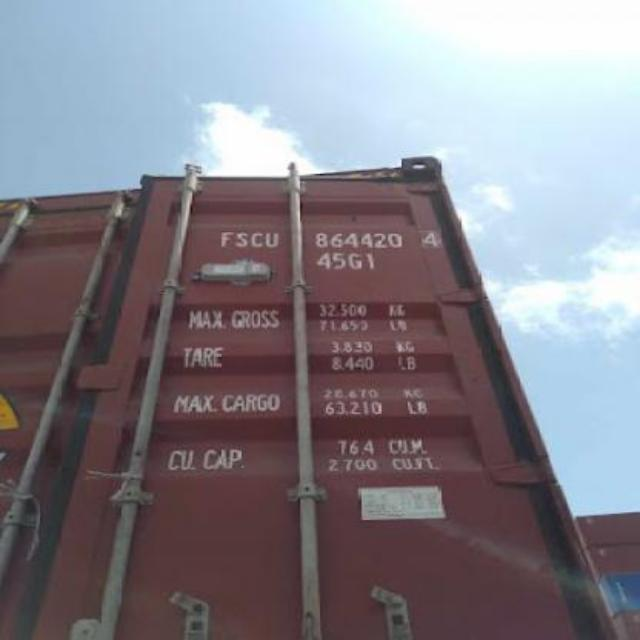0: (388, 231, 404, 251)
2: (372, 233, 386, 249)
4: (422, 231, 438, 247), (361, 233, 374, 251), (346, 233, 358, 251)
6: (332, 233, 342, 249)
8: (316, 233, 328, 249)
C: (252, 233, 262, 249)
F: (220, 222, 233, 248)
S: (236, 231, 248, 249)
U: (266, 233, 280, 249)
